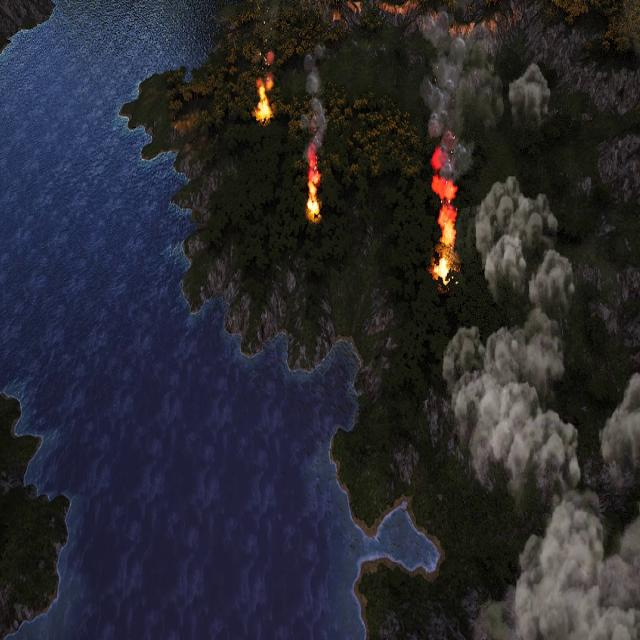fire: (430, 144, 462, 288), (306, 153, 324, 219), (254, 76, 273, 121)
smoke: (419, 1, 640, 639), (303, 42, 327, 146), (256, 0, 282, 80)
